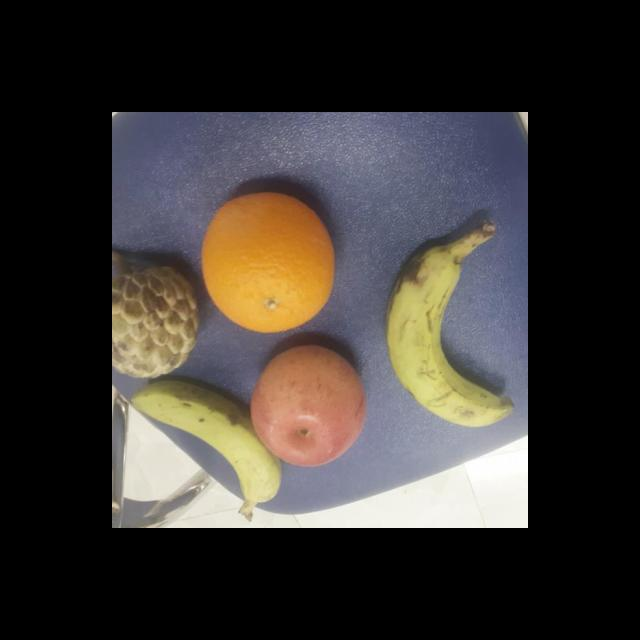Sakya fruit: (112, 264, 206, 382)
apple: (248, 343, 369, 468)
banana: (385, 245, 516, 436), (130, 382, 284, 507)
orange: (200, 190, 336, 336)
